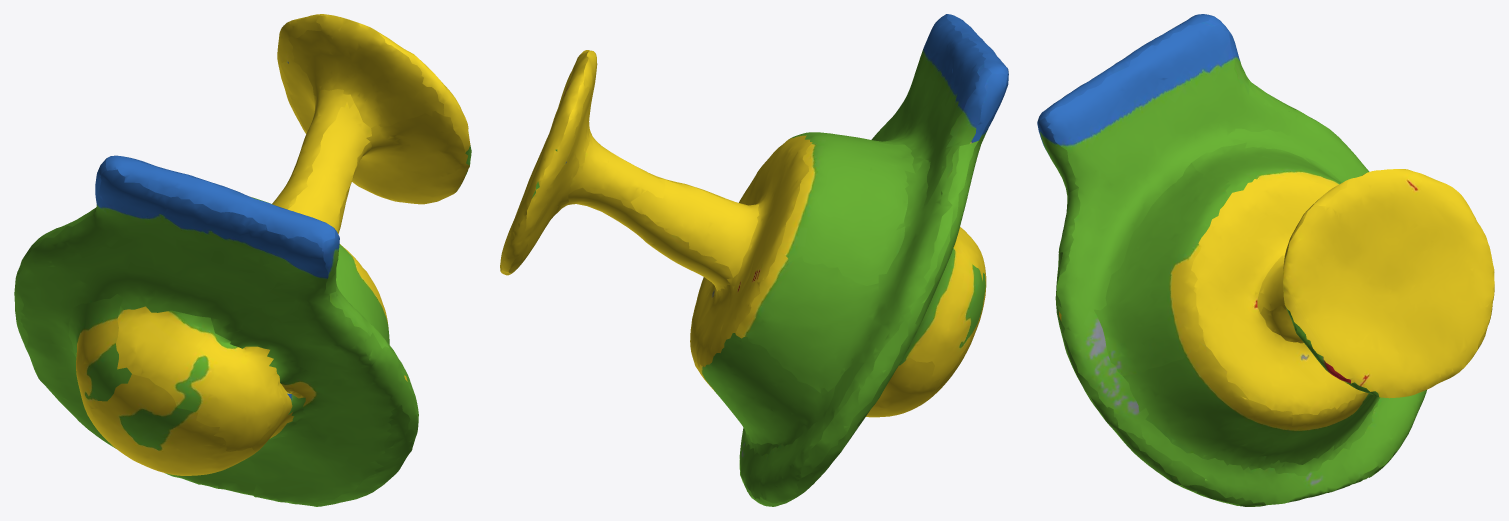
Rendered from watchspot.glb.
3 renders of one model, left to right at view 1: azimuth 30°, elevation 25°; view 2: azimuth 150°, elevation 25°; view 3: azimuth 270°, elevation 25°, orthographic. The views are drawn at different scales.
Parts seen in each view (by area): view 1: geometry_0; view 2: geometry_0; view 3: geometry_0.
Part boxes in pixels (bbox=[...]): geometry_0: bbox=[14, 14, 471, 506]; geometry_0: bbox=[500, 14, 1008, 506]; geometry_0: bbox=[1037, 14, 1494, 506].
Bounding box in the file's own units: 0.8659 × 0.8033 × 0.8566.
1 material, 1 textured.
